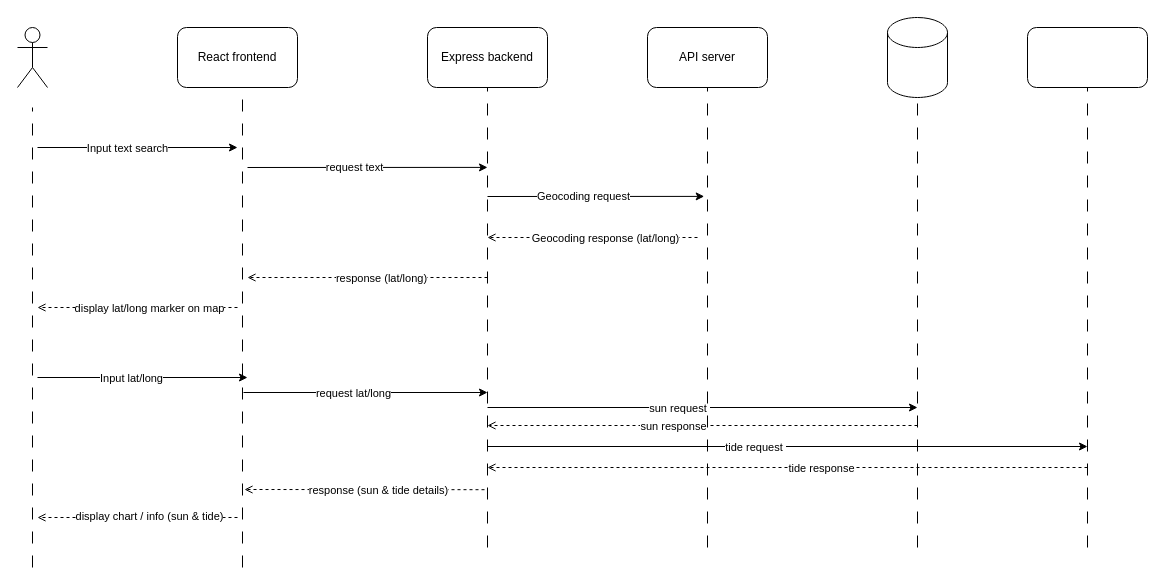
The diagram is 1165 pixels wide and 586 high, and some of its shapes have lost their labels. Each missing label, with the box of its shape:
Database: (886, 16, 948, 98)
User: (16, 26, 48, 88)
